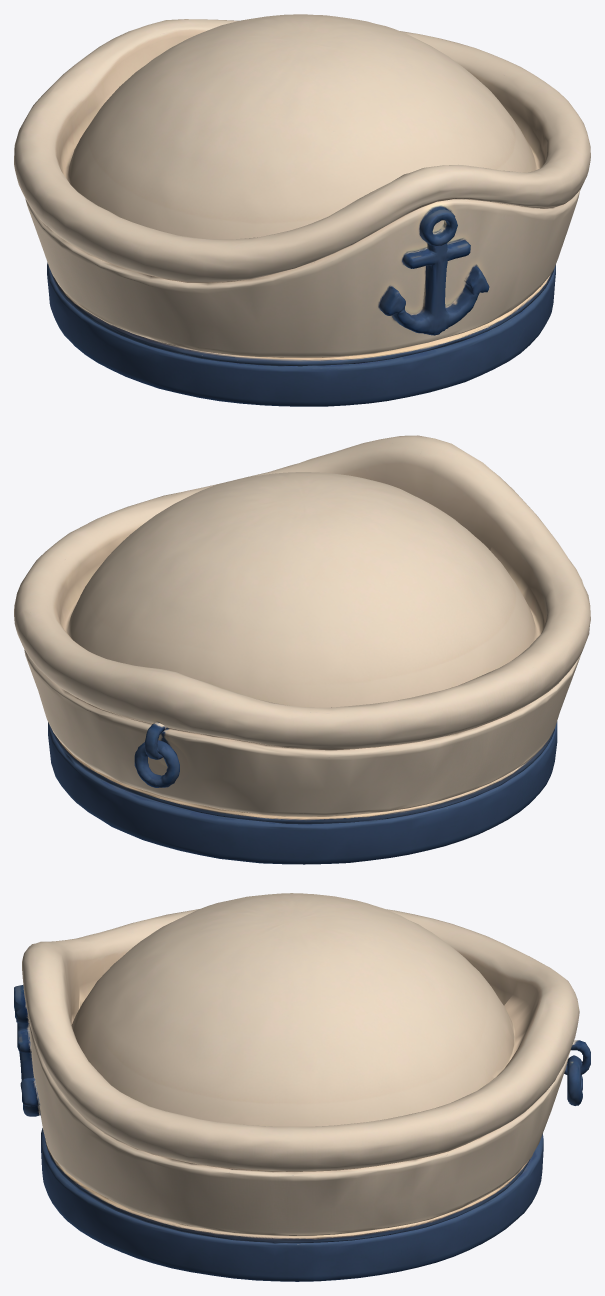
The model's file is mem_ac_sailorhat.fbx.
The picture shows the model from 3 angles, top to bottom: view 1: azimuth 30°, elevation 25°; view 2: azimuth 150°, elevation 25°; view 3: azimuth 270°, elevation 25°; orthographic projection.
Visible parts, largest first — view 1: tripo_node_679e6451-be25-41be-abac-c17306f0a592; view 2: tripo_node_679e6451-be25-41be-abac-c17306f0a592; view 3: tripo_node_679e6451-be25-41be-abac-c17306f0a592.
Part boxes in pixels (box(x1,y1,x2,y2)): tripo_node_679e6451-be25-41be-abac-c17306f0a592: box(14, 14, 590, 406); tripo_node_679e6451-be25-41be-abac-c17306f0a592: box(14, 435, 590, 864); tripo_node_679e6451-be25-41be-abac-c17306f0a592: box(14, 893, 590, 1281).
Size of the model in its own units: 0.9902 by 0.4941 by 0.998.
1 material, 1 textured.
